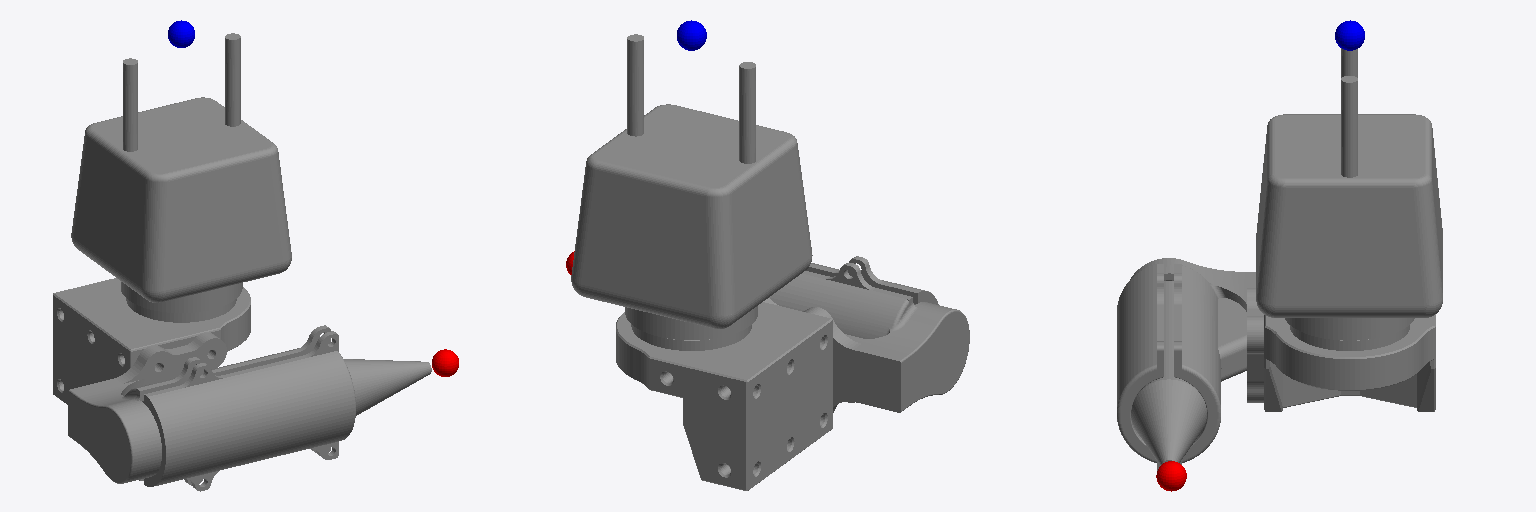
The robot description file, URDF, robot "screwdriver_tool":
<?xml version="1.0"?>
<robot name="screwdriver_tool">

  <link name="tool_link">
    <visual>
      <origin xyz="0 0 0.012" rpy="-1.5708 0 0"/>
      <geometry>
        <mesh filename="meshes/screwdriver_tool2.stl" scale="0.001 0.001 0.001"/>
      </geometry>
      <material name="gray">
        <color rgba="0.6 0.6 0.6 1"/>
      </material>
    </visual>

    <collision>
      <origin xyz="0 -0.003 0.012" rpy="-1.5708 0 0"/>
      <geometry>
        <mesh filename="meshes/screwdriver_tool_collision.stl" scale="0.001 0.001 0.001"/>
      </geometry>
    </collision>
    <collision>
      <origin xyz="0 0 0.012" rpy="-1.5708 0 0"/>
      <geometry>
        <mesh filename="meshes/collision2.stl" scale="0.001 0.001 0.001"/>
      </geometry>
    </collision>
    <inertial>
      <origin xyz="0 0 0" rpy="0 0 0"/>
      <mass value="0.1"/>
      <inertia ixx="0.001" ixy="0.0" ixz="0.0"
               iyy="0.001" iyz="0.0"
               izz="0.001"/>
    </inertial>
  </link>


  <joint name="tool_joint" type="fixed">
    <parent link="tool_link"/>
    <child link="tcp_link"/>
    <origin xyz="0.12102 -0.0937 -0.0188" rpy="0 0 0"/>
  </joint>

  <link name="tcp_link">
    <visual>
      <origin xyz="0 0 0" rpy="0 0 0"/>
      <geometry>
        <sphere radius="0.008"/>
      </geometry>
      <material name="red">
        <color rgba="1 0 0 1"/>
      </material>
    </visual>

    <collision>
      <origin xyz="0 0 0" rpy="0 0 0"/>
      <geometry>
        <sphere radius="0.008"/>
      </geometry>
    </collision>
  </link>

  <joint name="tool_joint2" type="fixed">
    <parent link="tool_link"/>
    <child link="tcp2_link"/>
    <origin xyz="0 0 0.18" rpy="0 0 0"/>
  </joint>

  <link name="tcp2_link">
    <visual>
      <origin xyz="0 0 0" rpy="0 0 0"/>
      <geometry>
        <sphere radius="0.008"/>
      </geometry>
      <material name="blue">
        <color rgba="0 0 1 1"/>
      </material>
    </visual>

    <collision>
      <origin xyz="0 0 0" rpy="0 0 0"/>
      <geometry>
        <sphere radius="0.008"/>
      </geometry>
    </collision>
  </link>
</robot>

--- What the picture shows (computed from the rendered views, not written in the file) ---
Views: 3 orthographic renders of the robot side by side, from view 1: azimuth 30°, elevation 25°; view 2: azimuth 150°, elevation 25°; view 3: azimuth 270°, elevation 25°.
Robot: screwdriver_tool — 3 links, 2 joints (2 fixed); root link tool_link; default pose: every joint at zero.
Links seen in each view (by area): view 1: tool_link, tcp_link, tcp2_link; view 2: tool_link, tcp2_link; view 3: tool_link, tcp_link, tcp2_link.
Boxes of the visible links, bbox=[...] form: tool_link: bbox=[53, 33, 431, 491]; tcp_link: bbox=[432, 349, 458, 376]; tcp2_link: bbox=[168, 20, 194, 47]; tool_link: bbox=[571, 34, 969, 490]; tcp2_link: bbox=[677, 20, 706, 50]; tool_link: bbox=[1117, 48, 1442, 470]; tcp_link: bbox=[1156, 461, 1186, 491]; tcp2_link: bbox=[1335, 20, 1364, 50].
Size in the robot's own frame: 0.23 by 0.1714 by 0.2461 metres.
Meshes: 1 distinct files referenced, 1 mesh visuals loaded (1 binary STL).
